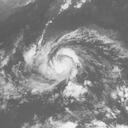cyclone: (35, 27, 102, 96)
